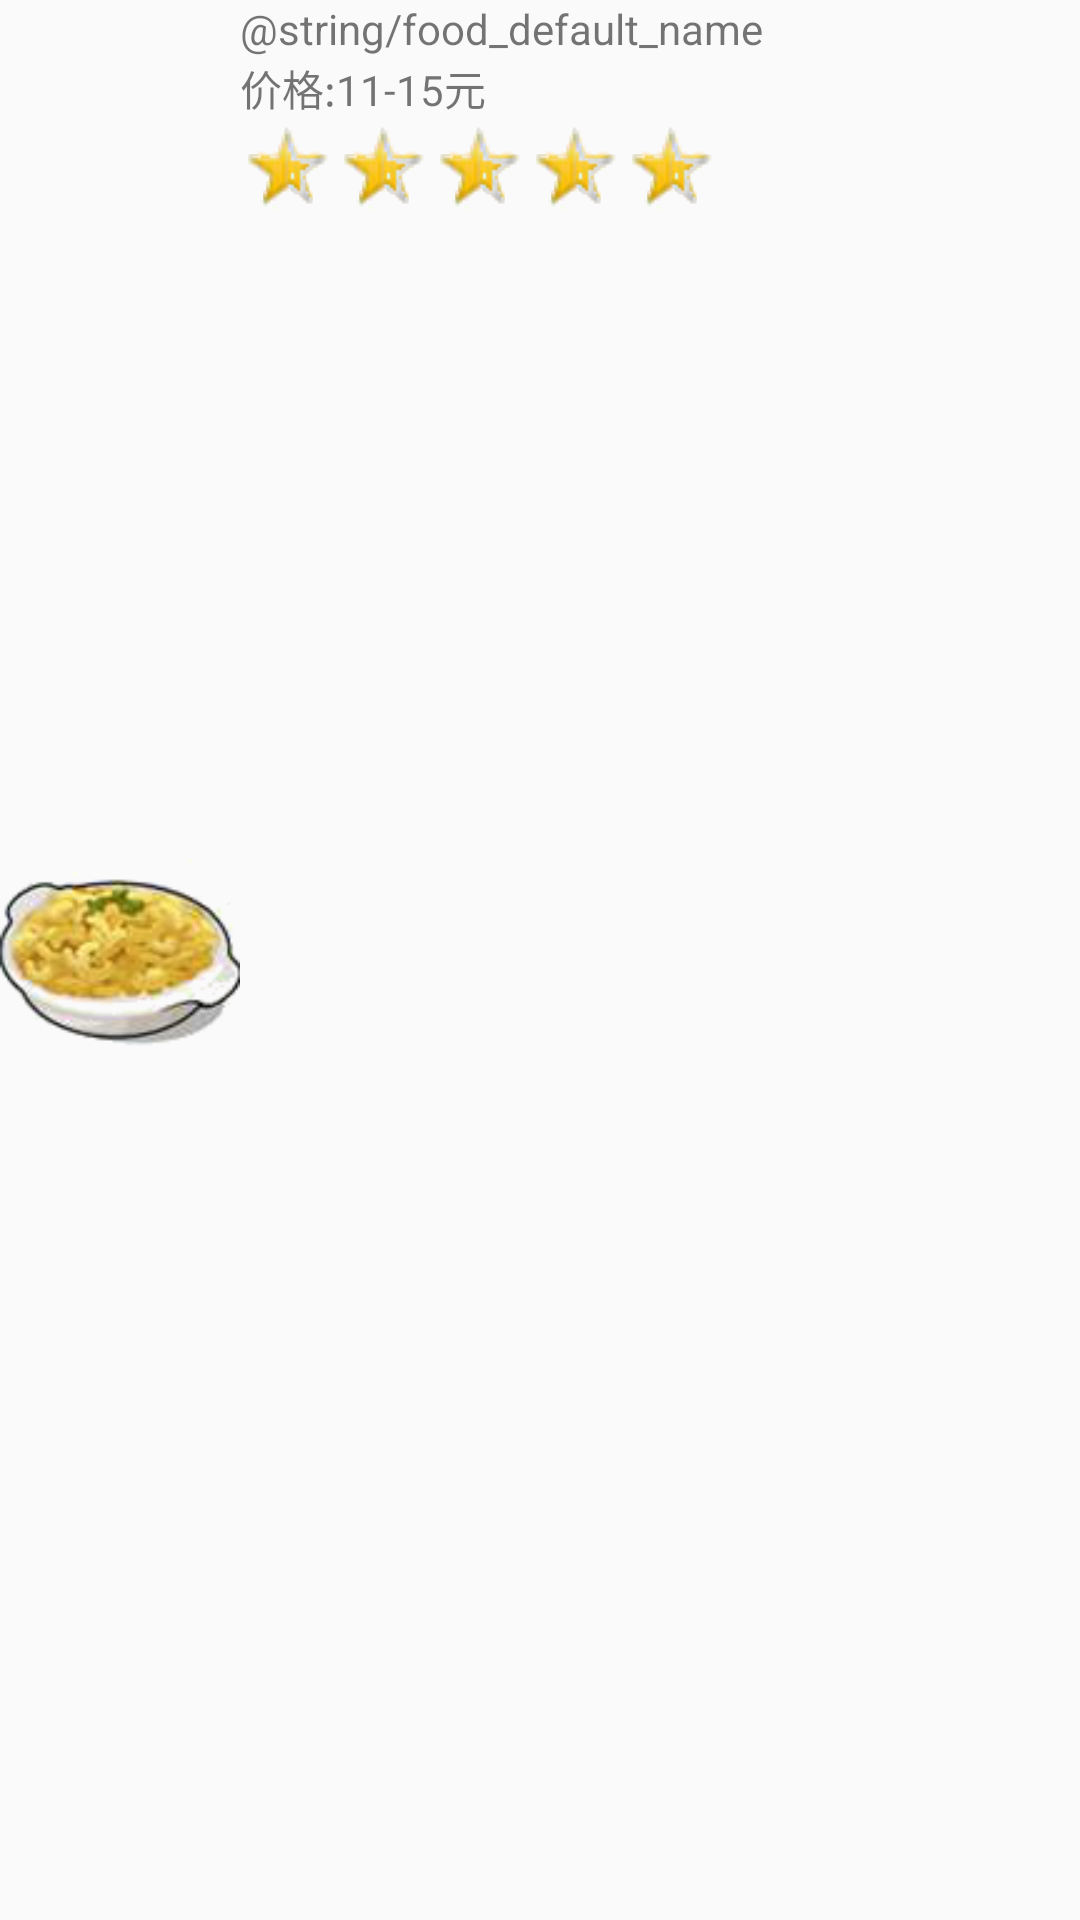

Icons on this 1080px x 1920px Android screen, each with the point to tap as point (x, y):
food blank: point (120, 961)
